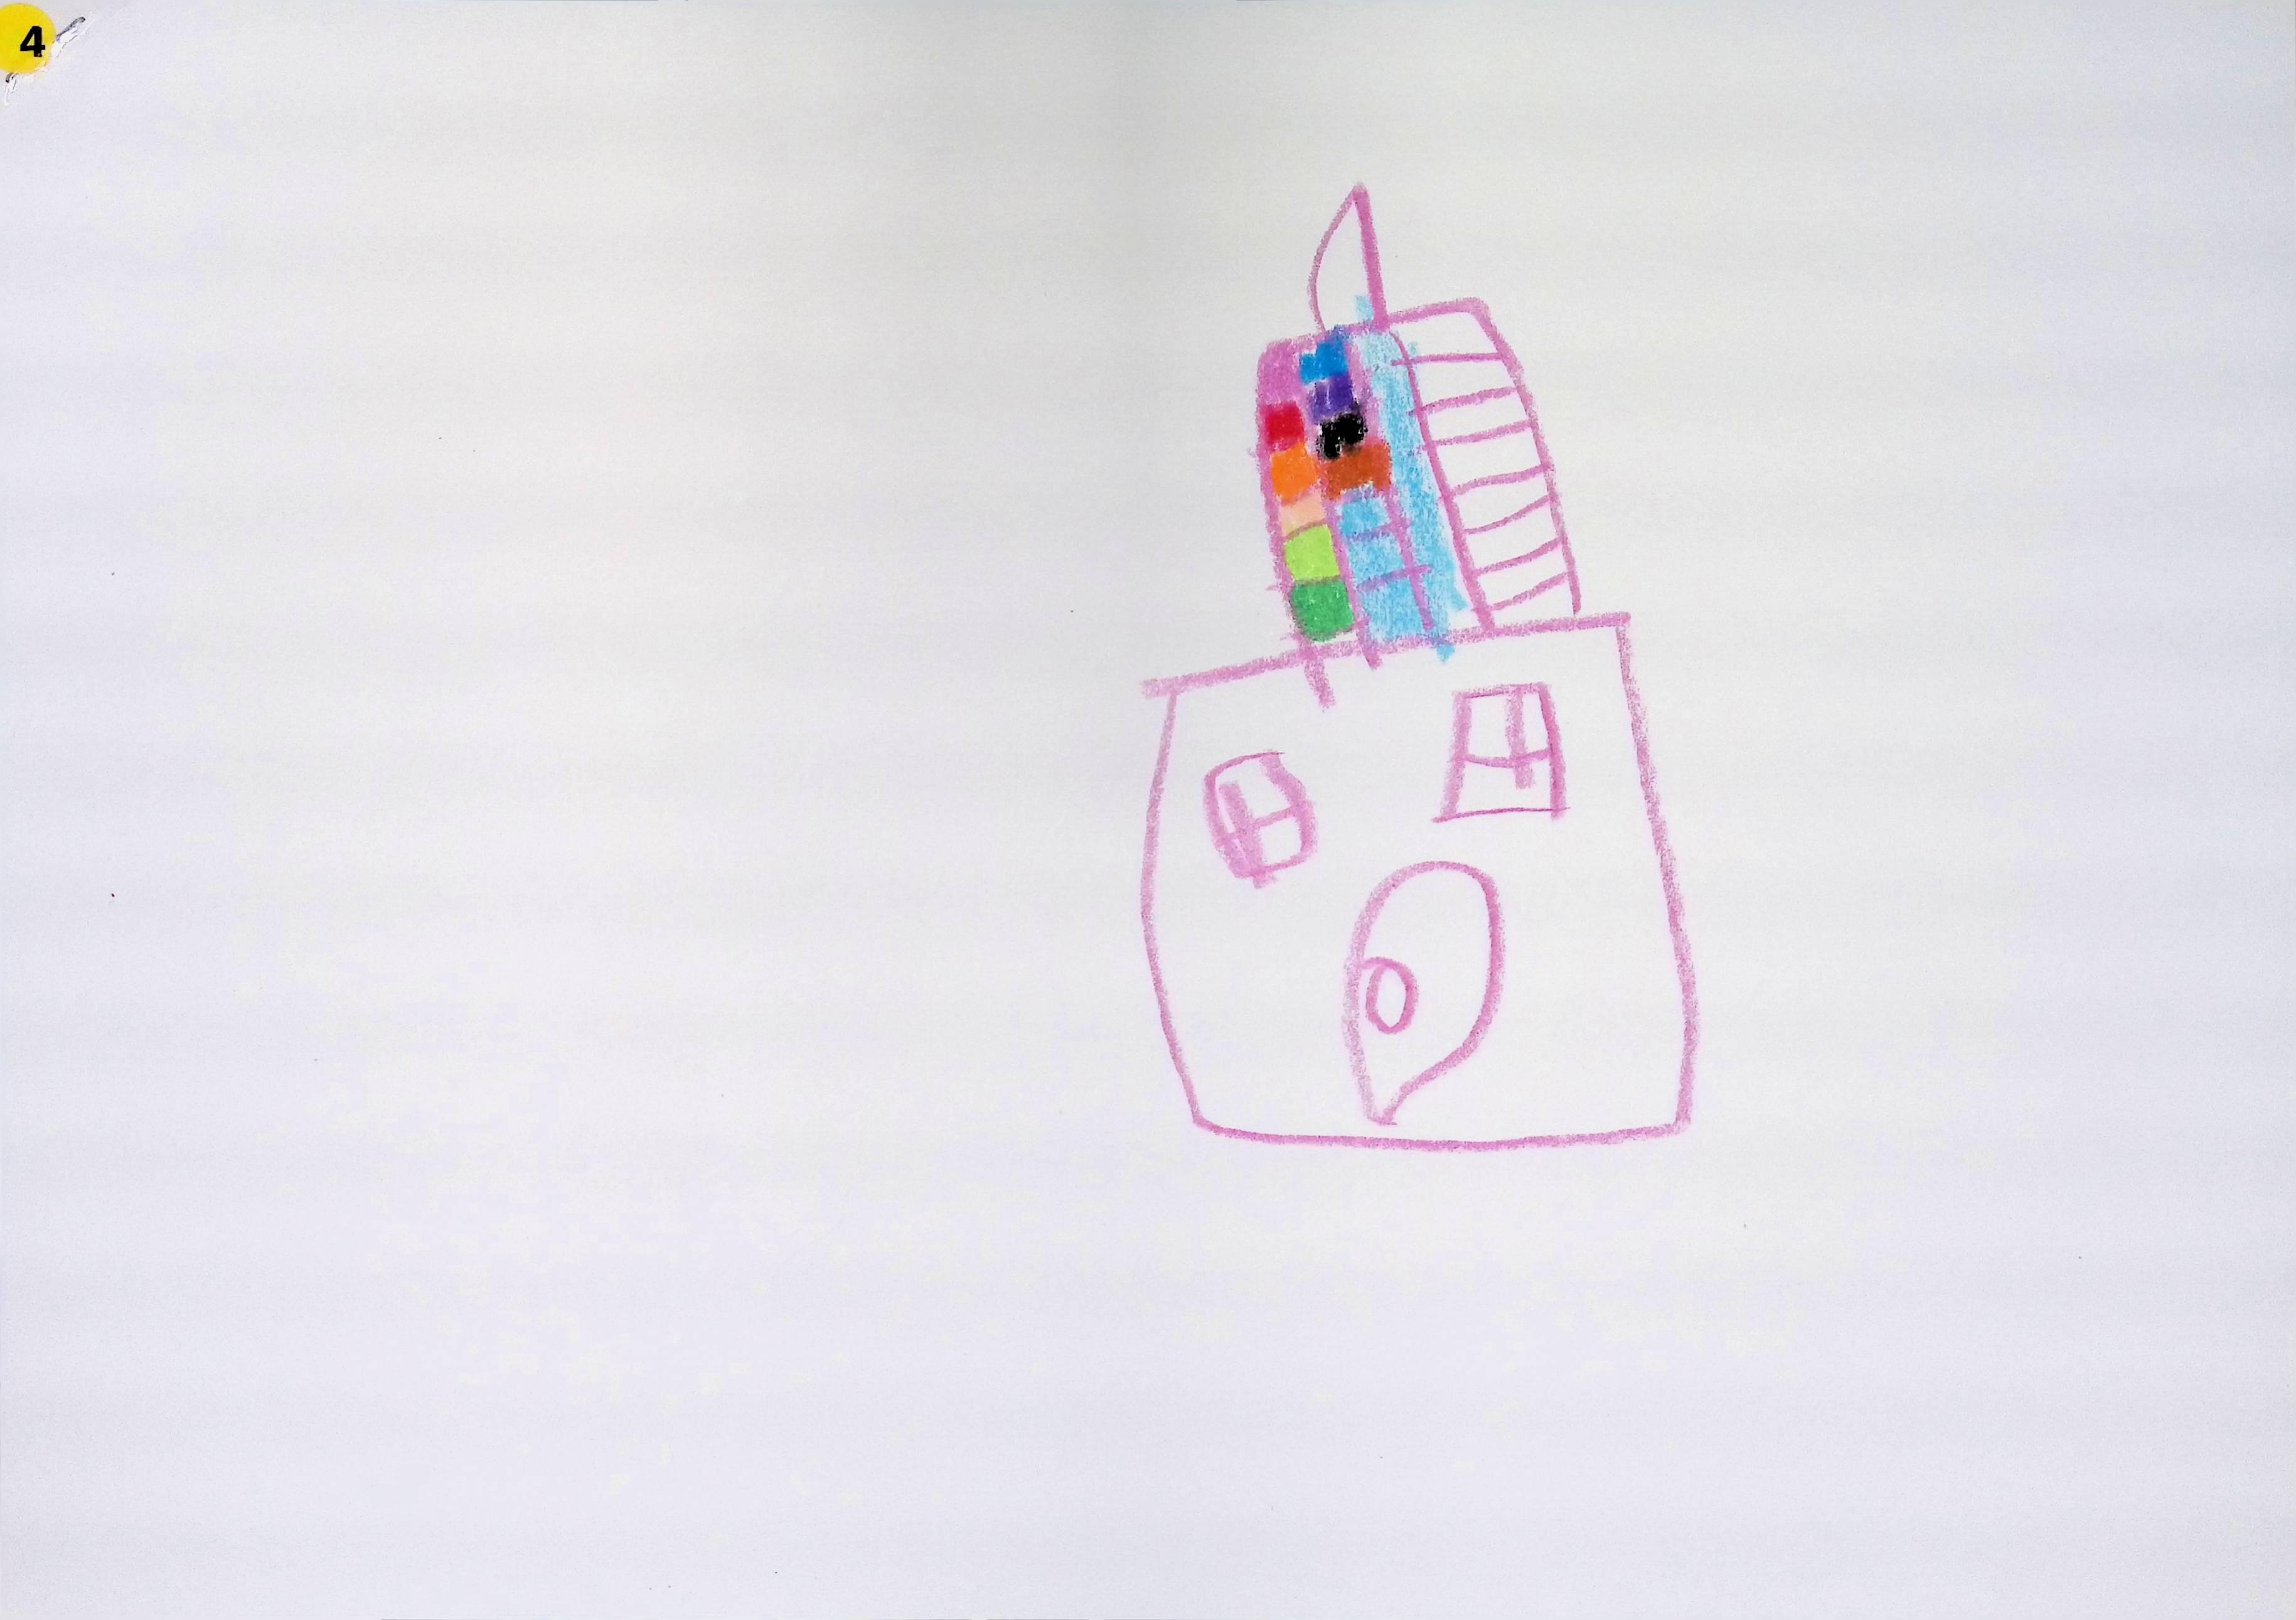chimney: (1309, 181, 1388, 324)
door: (1346, 863, 1504, 1126)
house: (1143, 181, 1700, 1150)
roof: (1258, 182, 1581, 649)
wall: (1143, 614, 1700, 1148)
window: (1439, 682, 1569, 821), (1204, 750, 1318, 887)
